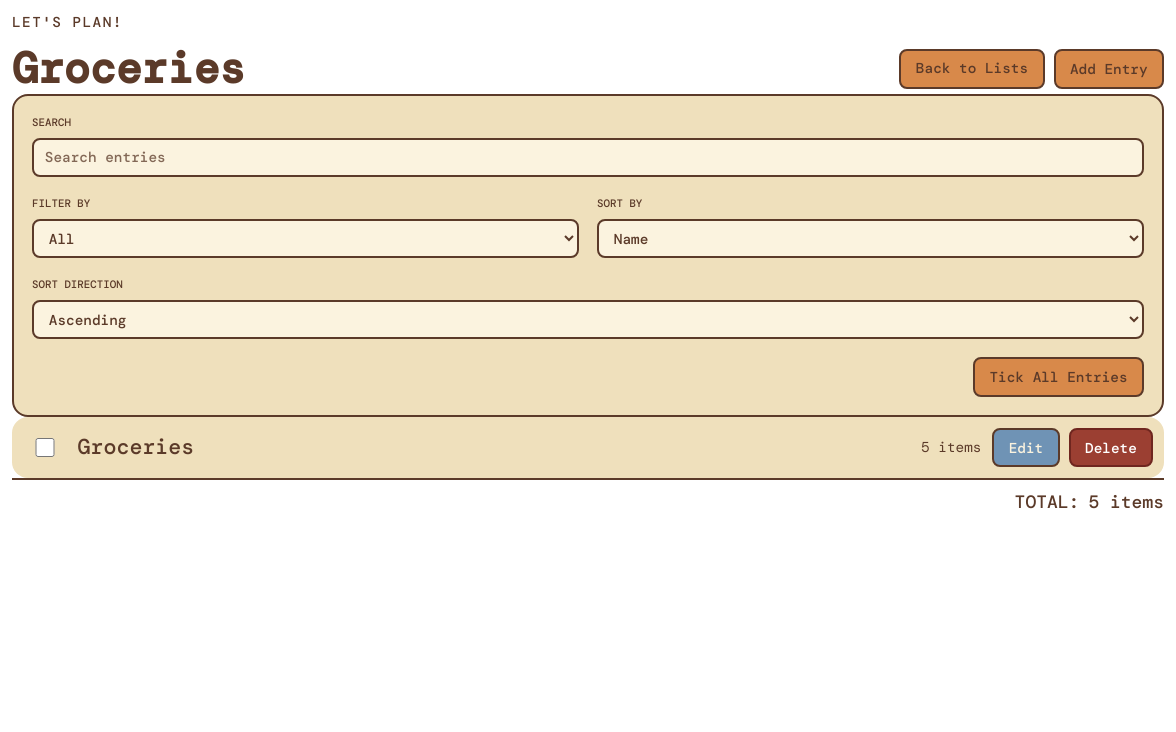
Test: ListPage › does not let a stale search response overwrite newer results
The width and height of the screenshot is (1176, 732).
Check: the button with aria-label "Edit Groceries" is shown, box [992,428,1060,467]
Type "milk" into the search field labelled "Search" at [588, 158], box [32,138,1144,177]
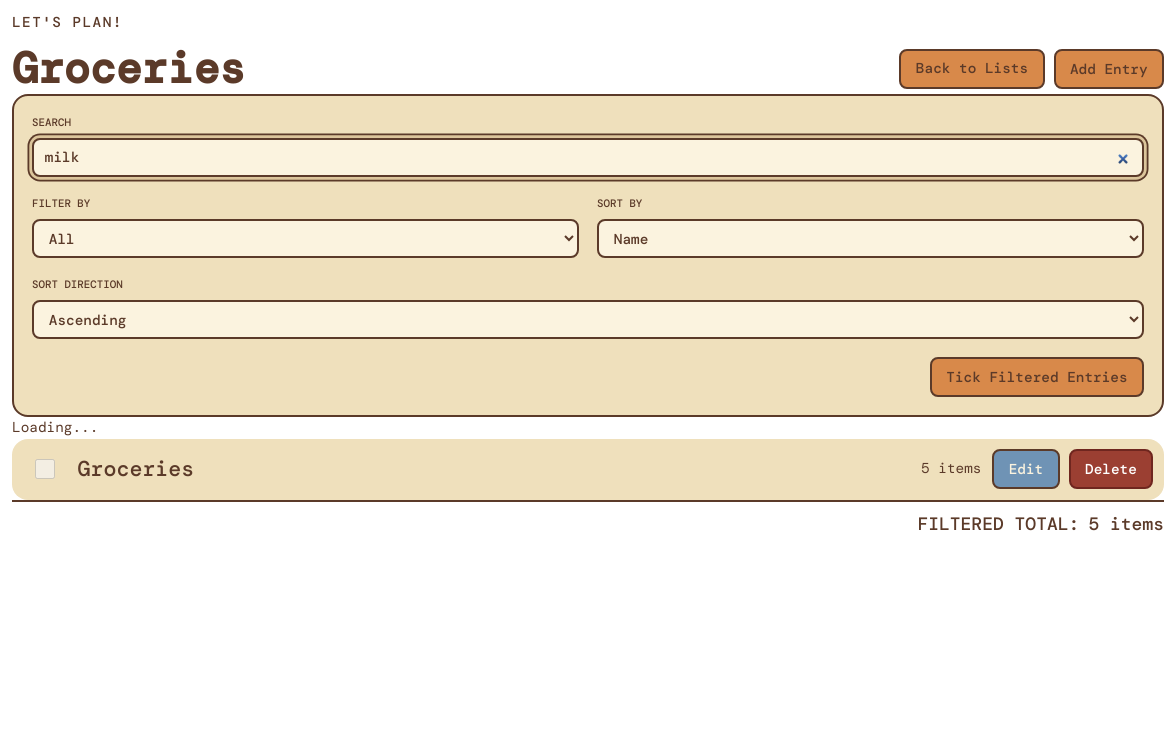
Replace the text in the search field labelled "Search" with "bread" at [588, 158], box [32,138,1144,177]
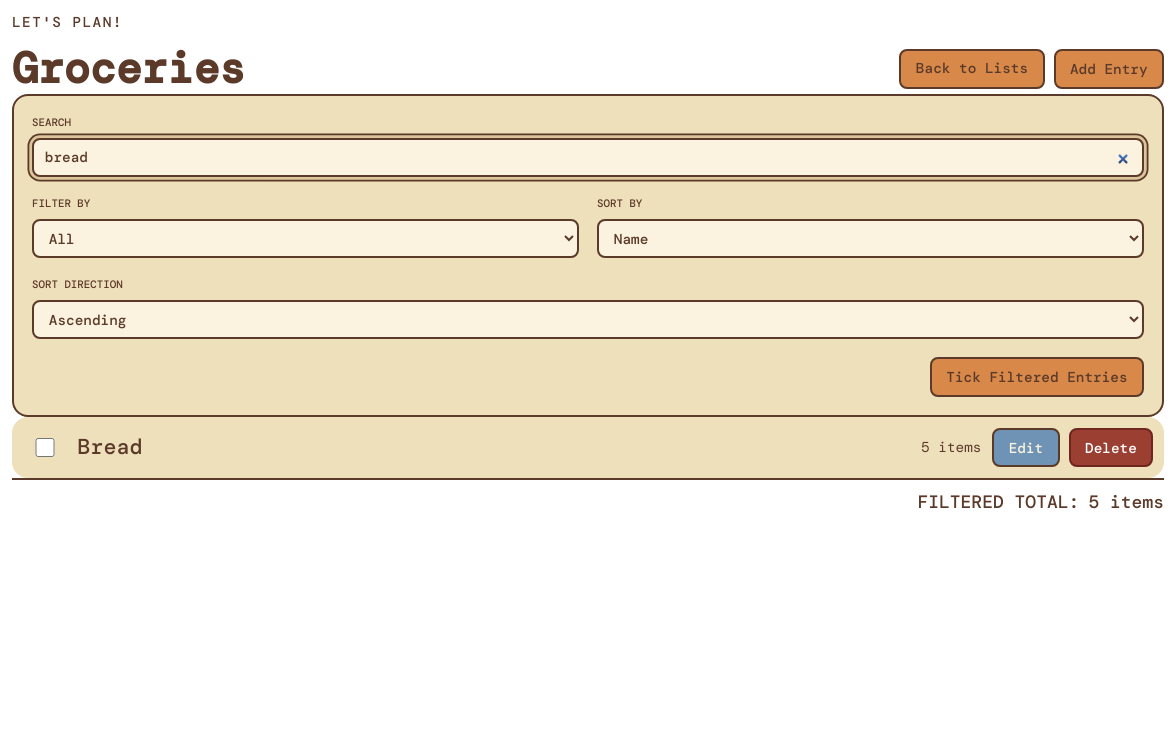
Check: the text "Milk" is not shown
Check: the text "Bread" is shown, box [78,433,142,461]
